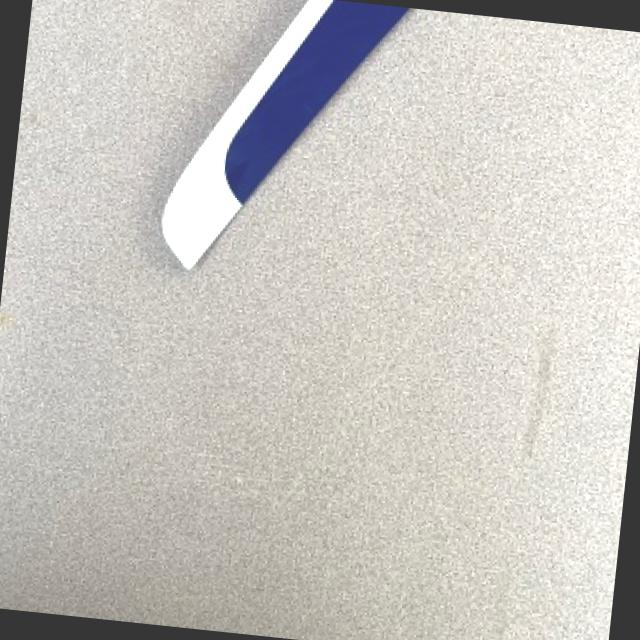healthy: (164, 0, 411, 265)
